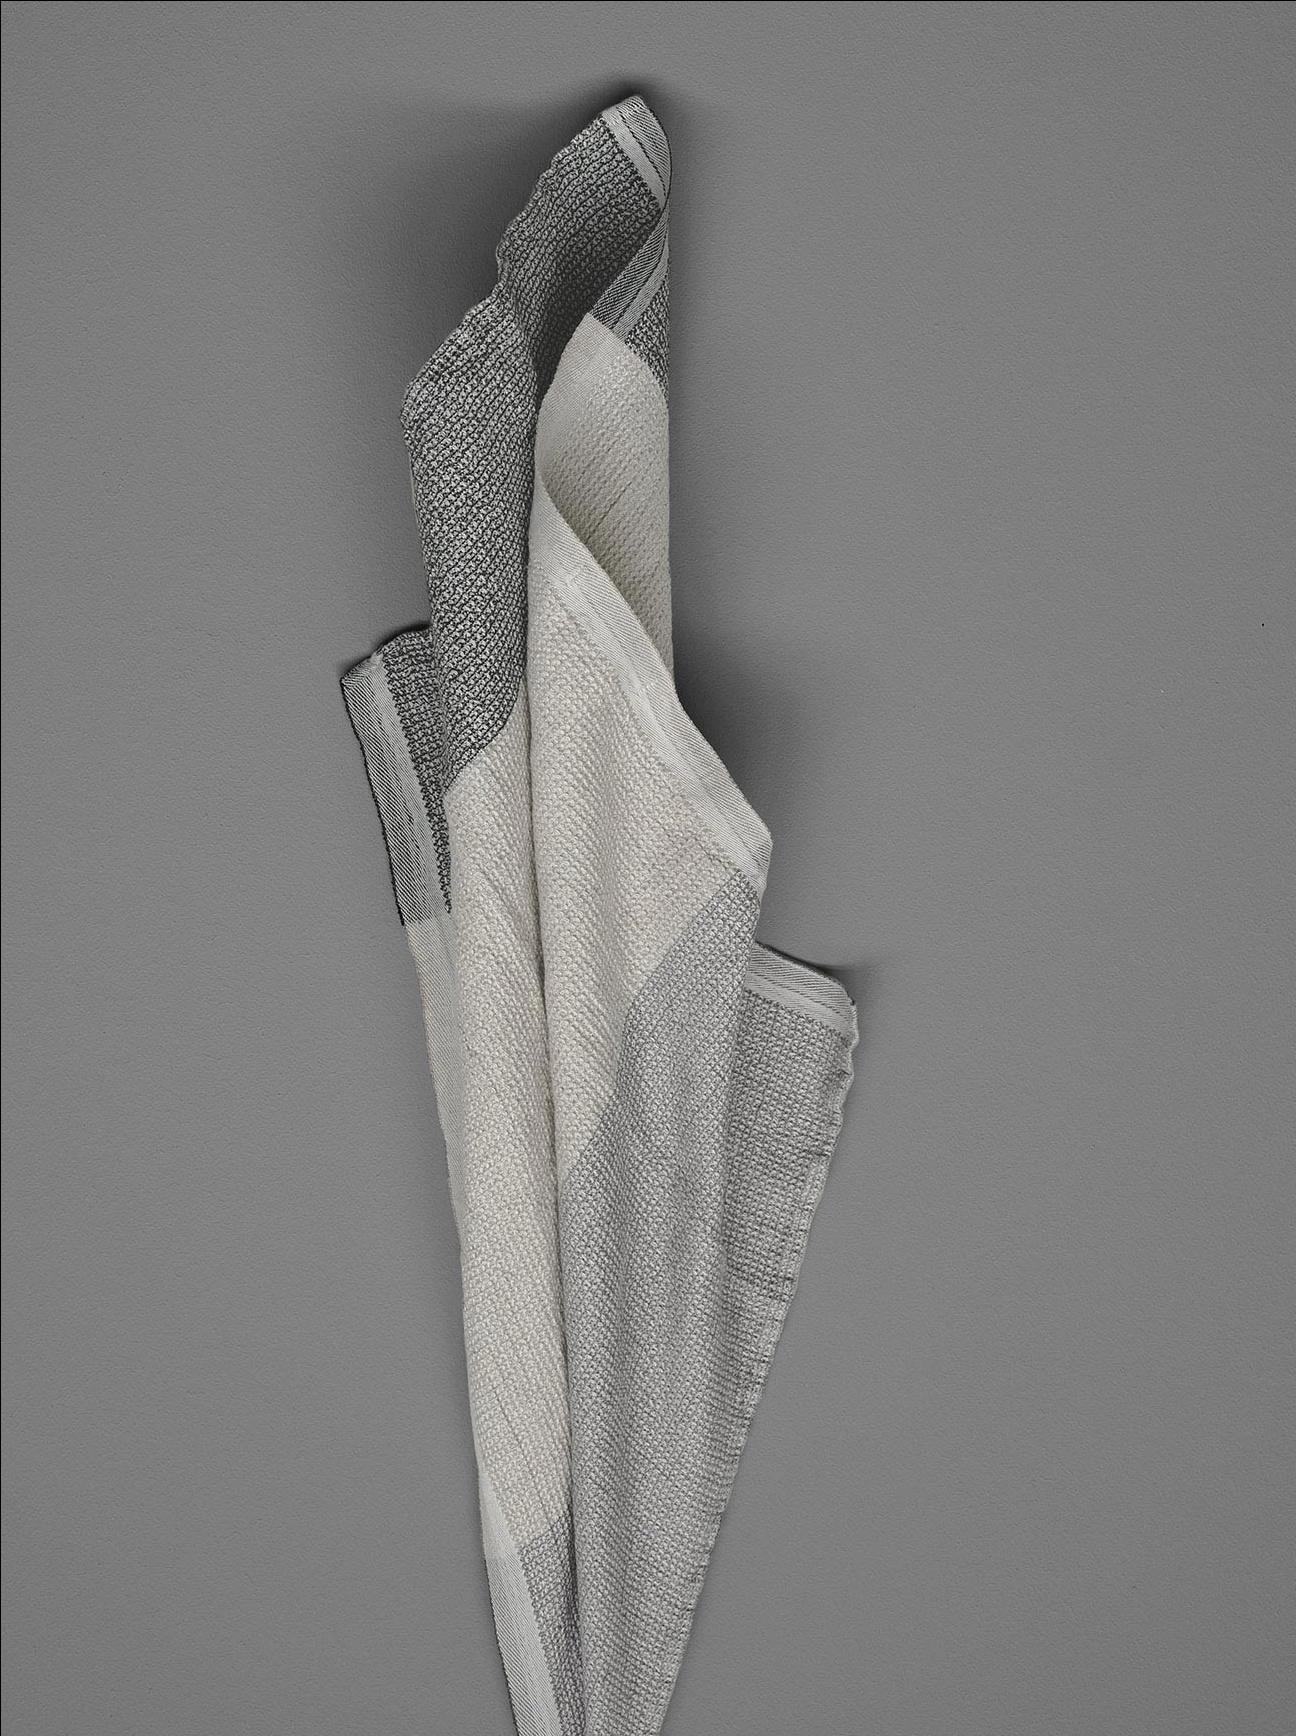towel: (227, 74, 950, 1736)
